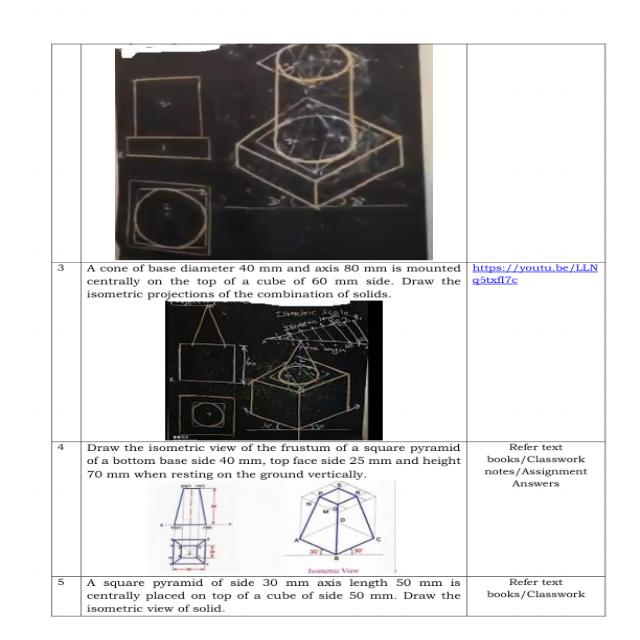Drawings: (232, 44, 409, 208), (248, 340, 362, 430), (123, 74, 215, 162), (122, 177, 215, 257), (157, 481, 235, 574), (290, 480, 384, 554), (175, 305, 243, 385), (175, 394, 239, 436)
